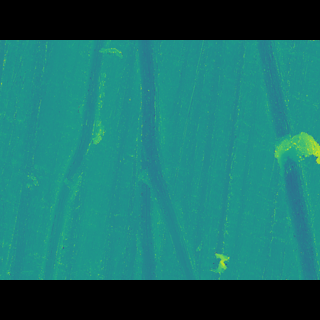Loch: (122, 68, 201, 251), (39, 70, 112, 250), (252, 69, 320, 252), (268, 138, 319, 170), (202, 227, 235, 248)
